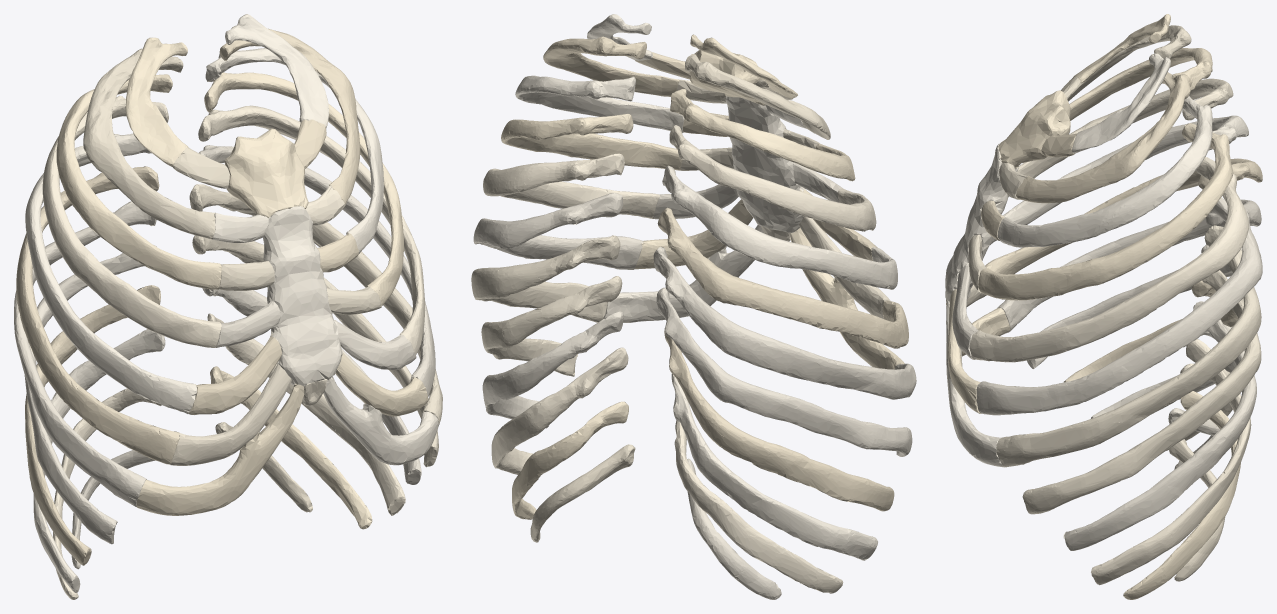
The model's file is gabbia_toracica.glb.
3 views of the same model, side by side, from view 1: azimuth 30°, elevation 25°; view 2: azimuth 150°, elevation 25°; view 3: azimuth 270°, elevation 25° (orthographic). The views are drawn at different scales.
Parts seen in each view (by area): view 1: body of sternum, right sixth rib, right fourth rib, right fifth rib, right third rib, right second rib, right seventh rib, right seventh costal cartilage, manubrium, left fifth rib, left fourth rib, right eighth rib (+28 smaller); view 2: right seventh rib, right sixth rib, right eighth rib, right ninth rib, right fifth rib, right tenth rib, left fifth rib, left fourth rib, left sixth rib, left seventh rib, right fourth rib, left third rib (+23 smaller); view 3: left sixth rib, left fifth rib, left seventh rib, left fourth rib, left eighth rib, left third rib, left ninth rib, left second rib, left tenth rib, left eleventh rib, manubrium, body of sternum (+21 smaller).
Part boxes in pixels (x1,y1,x2,y2): body of sternum: (263, 206, 342, 386); right sixth rib: (16, 166, 179, 464); right fourth rib: (42, 95, 221, 347); right fifth rib: (25, 133, 196, 413); right third rib: (56, 74, 221, 289); right second rib: (83, 48, 215, 239); right seventh rib: (14, 201, 156, 506); right seventh costal cartilage: (136, 384, 304, 515); manubrium: (224, 128, 308, 218); left fifth rib: (198, 105, 424, 354); left fourth rib: (204, 72, 403, 305); right eighth rib: (24, 245, 156, 544); right seventh rib: (653, 246, 916, 399); right sixth rib: (657, 207, 908, 348); right eighth rib: (656, 287, 912, 456); right ninth rib: (664, 327, 894, 511); right fifth rib: (662, 165, 897, 289); right tenth rib: (671, 374, 877, 560); left fifth rib: (483, 153, 660, 218); left fourth rib: (501, 113, 682, 170); left sixth rib: (473, 193, 643, 269); left seventh rib: (471, 235, 620, 322); right fourth rib: (669, 125, 876, 231); left third rib: (515, 75, 684, 132); left sixth rib: (976, 197, 1262, 415); left fifth rib: (969, 157, 1248, 362); left seventh rib: (996, 225, 1261, 467); left fourth rib: (978, 123, 1233, 300); left eighth rib: (1022, 270, 1261, 514); left third rib: (997, 96, 1212, 247); left ninth rib: (1063, 301, 1256, 550); left second rib: (1016, 72, 1191, 203); left tenth rib: (1091, 339, 1251, 585); left eleventh rib: (1123, 391, 1240, 599); manubrium: (998, 90, 1070, 168); body of sternum: (945, 143, 1018, 301).
Bounding box in the file's own units: 273 × 362 × 210.
